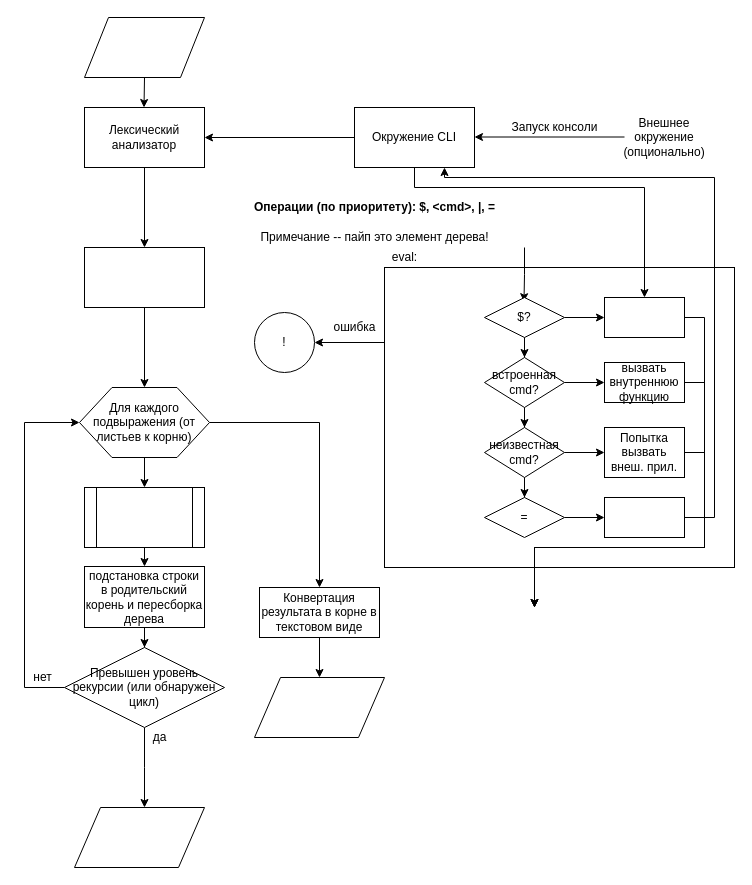
The diagram is 752 pixels wide and 885 high, and some of its shapes have lost their labels. The shapes that lost their labels are listed below. From the top down, each one's centre as x and y in pixels, then its label:
At [144,47]: "Входная строка".
At [144,277]: "Дерево подвыражений".
At [644,317]: "Взять из окружения".
At [144,517]: "Запуск (eval) выражения".
At [644,517]: "Записать в окружения".
At [319,707]: "Выходная строка".
At [139,837]: "Сообщение об ошибке".
